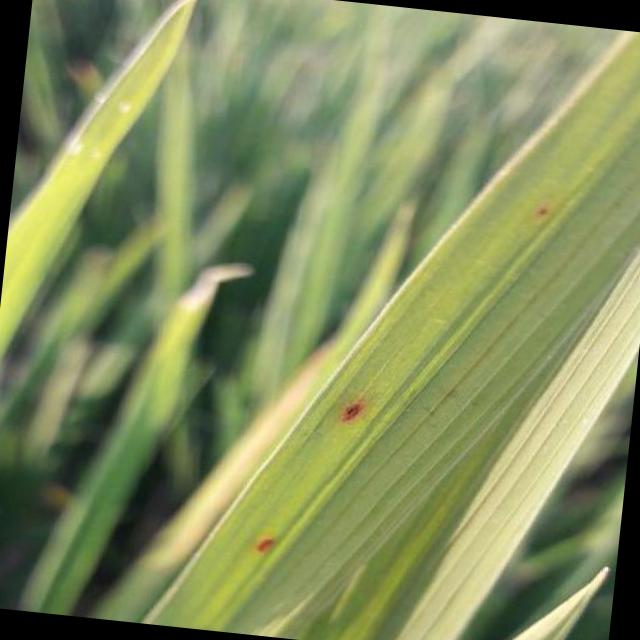Rice_Brownspot: (328, 378, 378, 431), (515, 185, 559, 228), (246, 526, 292, 559)
